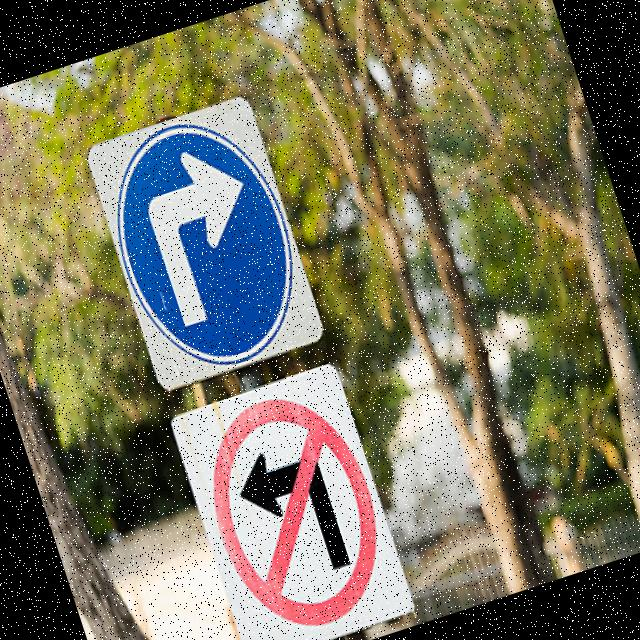do_not_turn_right: (181, 375, 407, 640)
